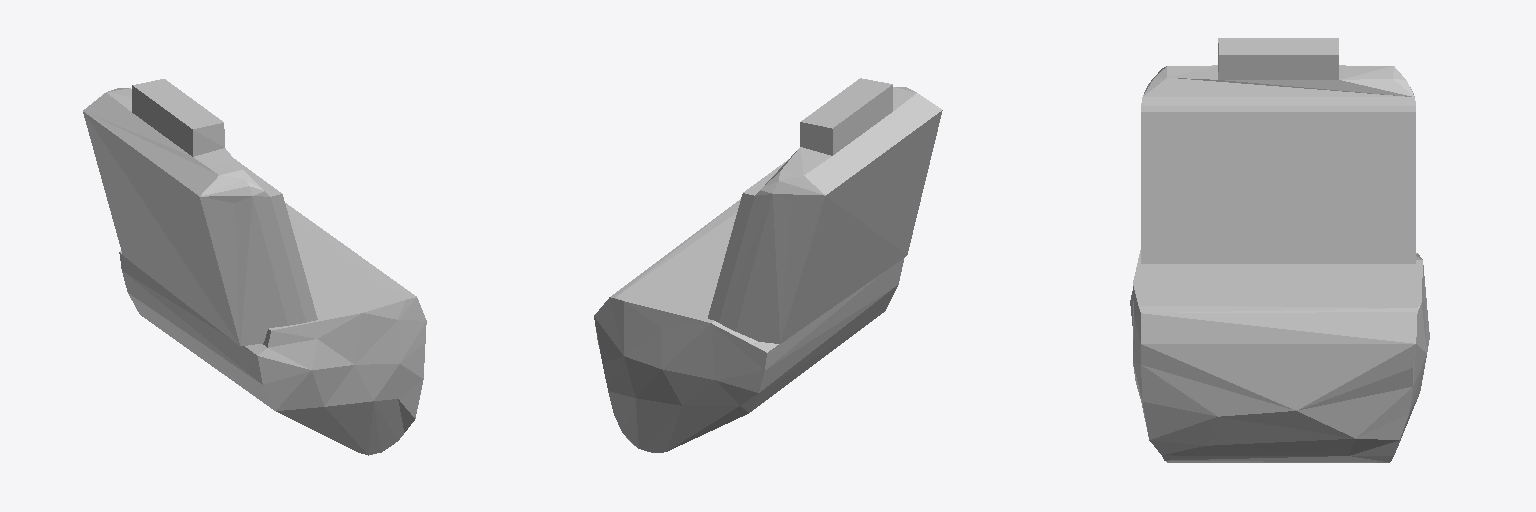
File: head_collision.obj
3 renders of one model, left to right at view 1: azimuth 30°, elevation 25°; view 2: azimuth 150°, elevation 25°; view 3: azimuth 270°, elevation 25°, orthographic.
Size of the model in its own units: 0.194 by 0.276 by 0.218.